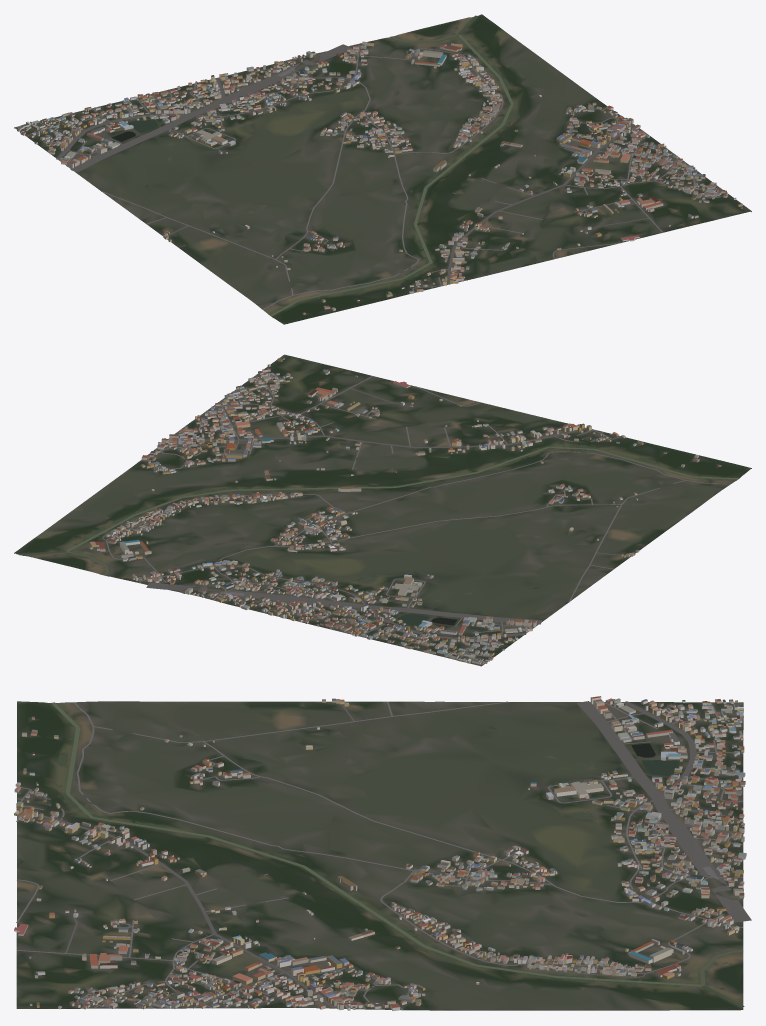
3 renders of one model, top to bottom at view 1: azimuth 30°, elevation 25°; view 2: azimuth 150°, elevation 25°; view 3: azimuth 270°, elevation 25°, orthographic. The views are drawn at different scales.
Visible parts, largest first — view 1: ground, buildings, roads, water; view 2: ground, buildings, roads, water; view 3: ground, buildings, roads, water.
Part boxes in pixels (x1,y1,x2,y2): ground: (14, 14, 751, 324); buildings: (16, 41, 742, 314); roads: (17, 44, 722, 309); water: (112, 15, 517, 316); ground: (14, 354, 751, 666); buildings: (89, 358, 721, 664); roads: (102, 373, 730, 665); water: (19, 443, 738, 626); ground: (16, 701, 743, 1010); buildings: (14, 696, 746, 1010); roads: (16, 701, 751, 1010); water: (51, 702, 744, 1007).
Size of the model in its own units: 1415 by 22.48 by 1424.
